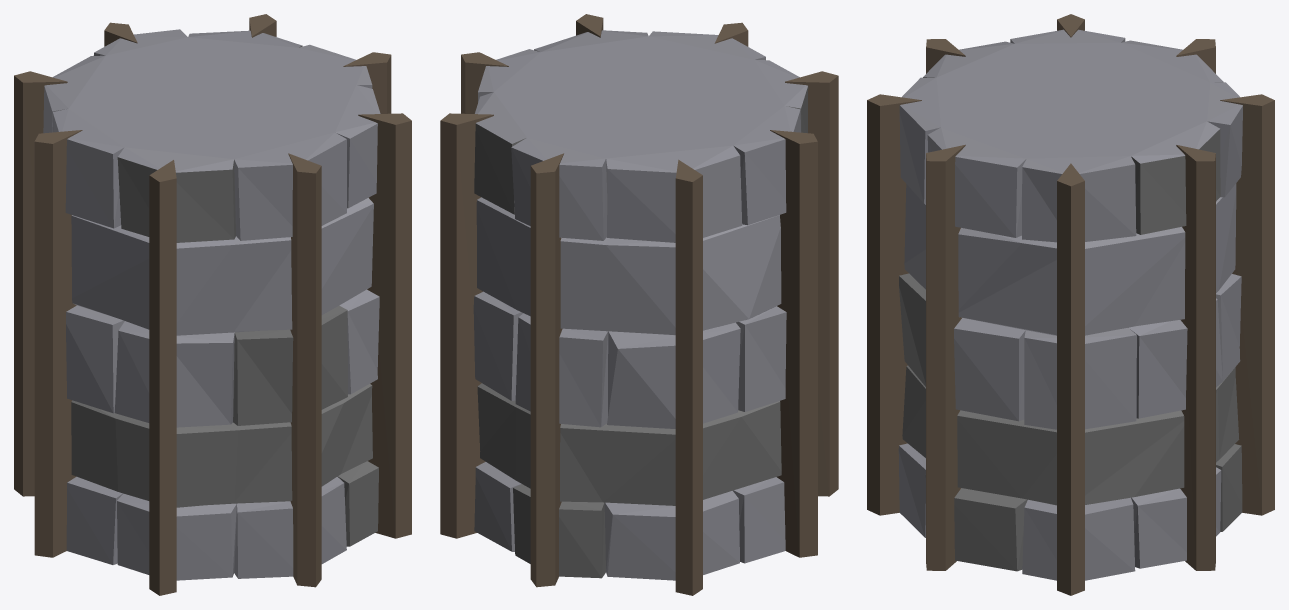
File: _PROPS_1_BASE_01.fbx
3 views of the same model, side by side, from view 1: azimuth 30°, elevation 25°; view 2: azimuth 150°, elevation 25°; view 3: azimuth 270°, elevation 25° (orthographic).
Parts seen in each view (by area): view 1: PROPS_1_BASE_01; view 2: PROPS_1_BASE_01; view 3: PROPS_1_BASE_01.
Part boxes in pixels (left/top/right/bottom): PROPS_1_BASE_01: left=14, top=14, right=411, bottom=595; PROPS_1_BASE_01: left=440, top=14, right=838, bottom=595; PROPS_1_BASE_01: left=867, top=14, right=1274, bottom=595.
Bounding box in the file's own units: 304 × 337 × 304.
